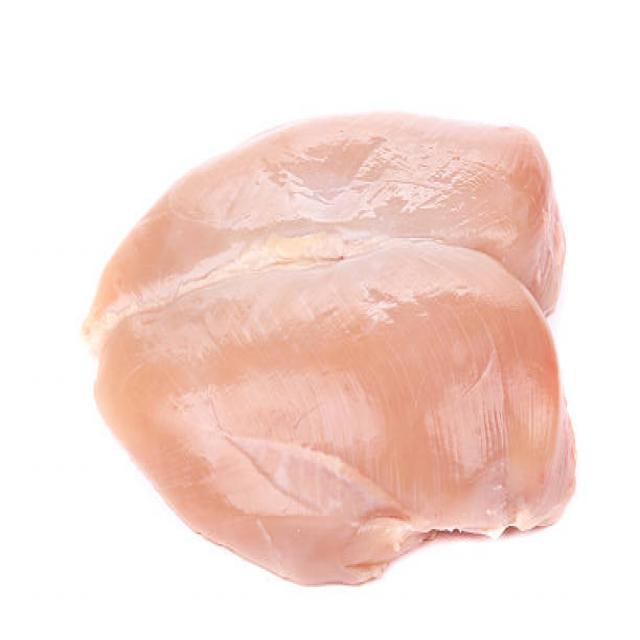Chicken Breast: (10, 55, 628, 640)
